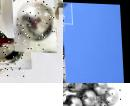ironball: (11, 0, 55, 52), (0, 29, 23, 77), (76, 87, 98, 105), (100, 88, 119, 105), (39, 0, 63, 13), (63, 83, 85, 93), (63, 95, 84, 105), (91, 83, 108, 95), (93, 100, 110, 105), (63, 83, 72, 91), (63, 99, 70, 105)
